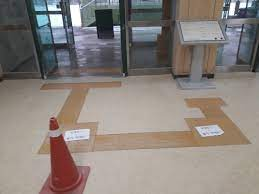guide_blocks: (184, 117, 250, 145), (41, 122, 96, 151), (96, 133, 193, 149), (57, 89, 87, 122), (41, 81, 120, 87), (188, 98, 226, 107), (202, 109, 227, 117)
